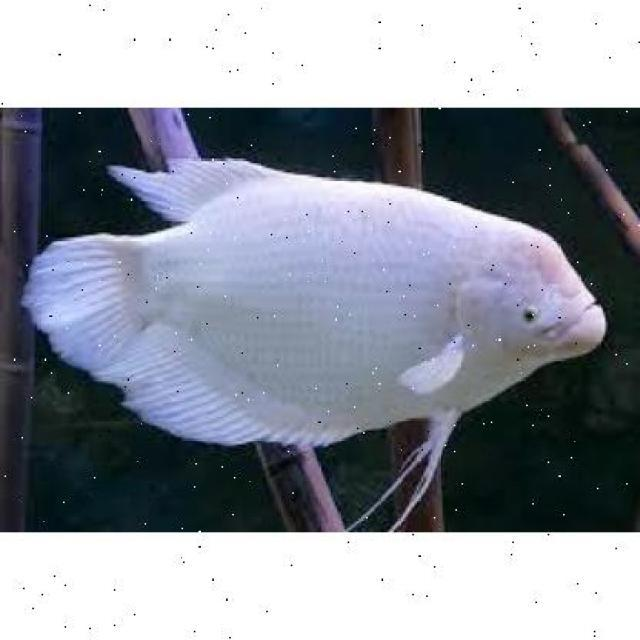gurame: (54, 159, 604, 444)
